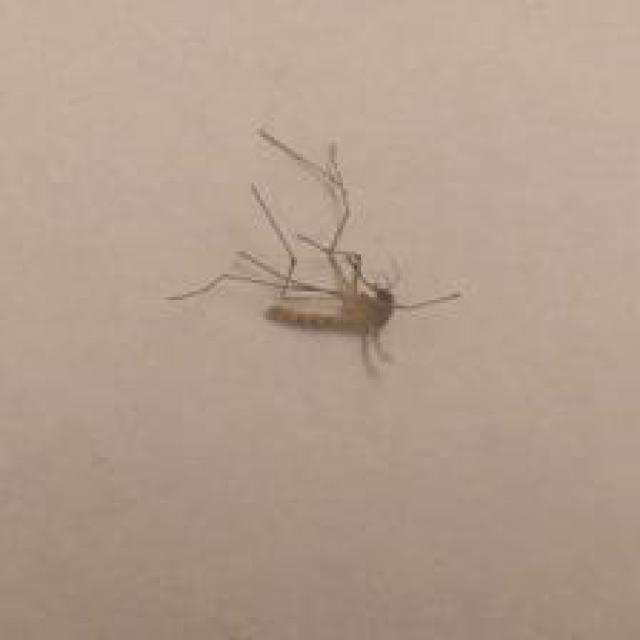Culex: (165, 124, 462, 376)
